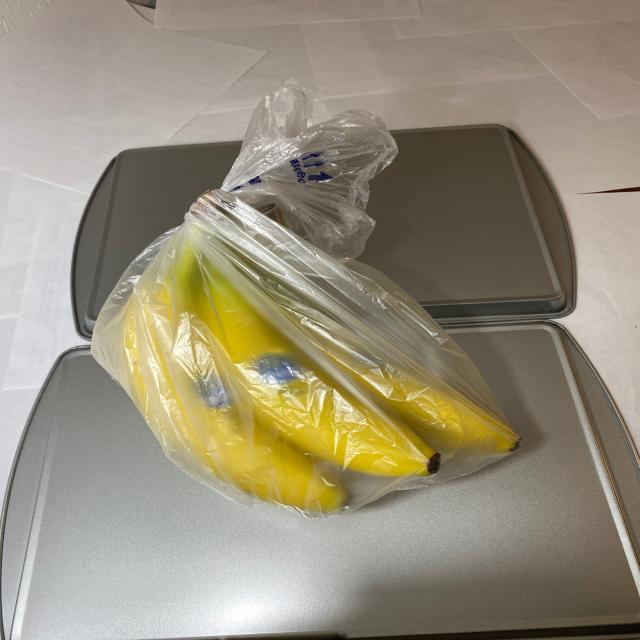banana: (103, 184, 528, 524)
